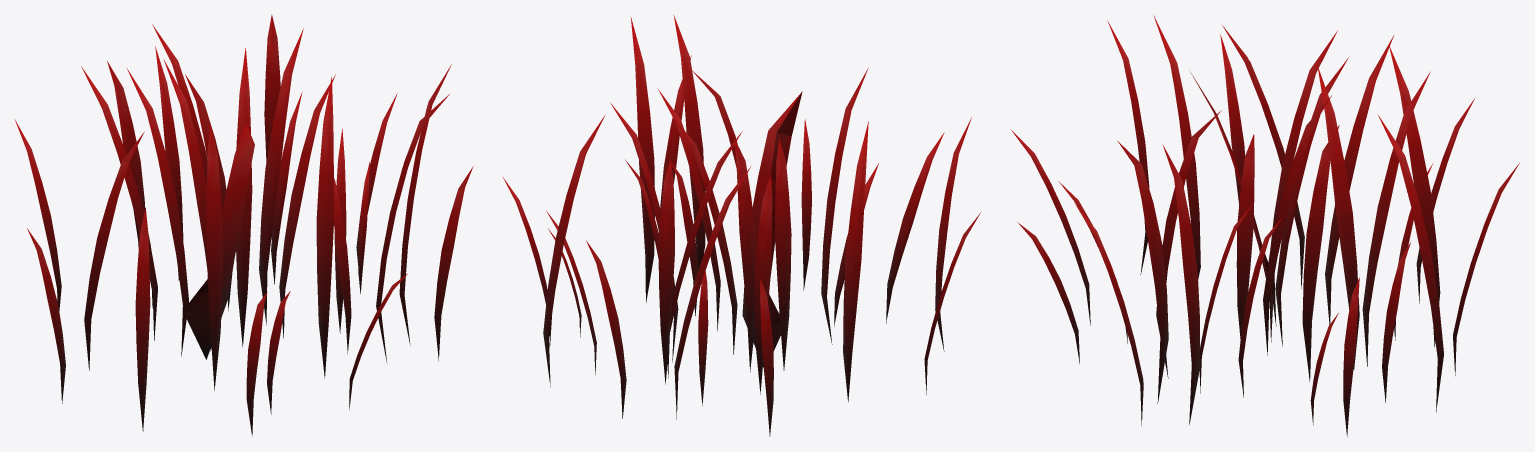
Rendered from sm_grassTL.fbx.
3 views of the same model, side by side, from view 1: azimuth 30°, elevation 25°; view 2: azimuth 150°, elevation 25°; view 3: azimuth 270°, elevation 25° (orthographic). The views are drawn at different scales.
Parts seen in each view (by area): view 1: grass; view 2: grass; view 3: grass.
Boxes of the visible parts, x1,y1,x2,y2 form: grass: (14,14,473,436); grass: (503,15,980,436); grass: (1010,15,1519,436).
Bounding box in the file's own units: 311 × 201 × 301.
